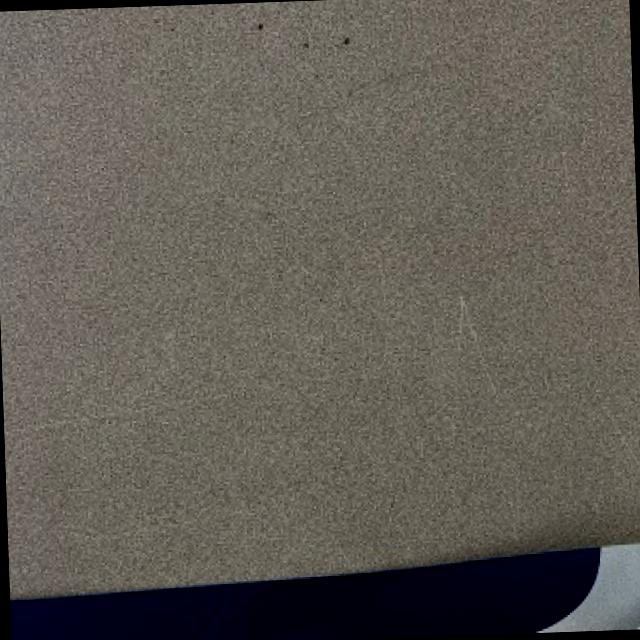healthy: (0, 0, 640, 593), (10, 547, 597, 640)
